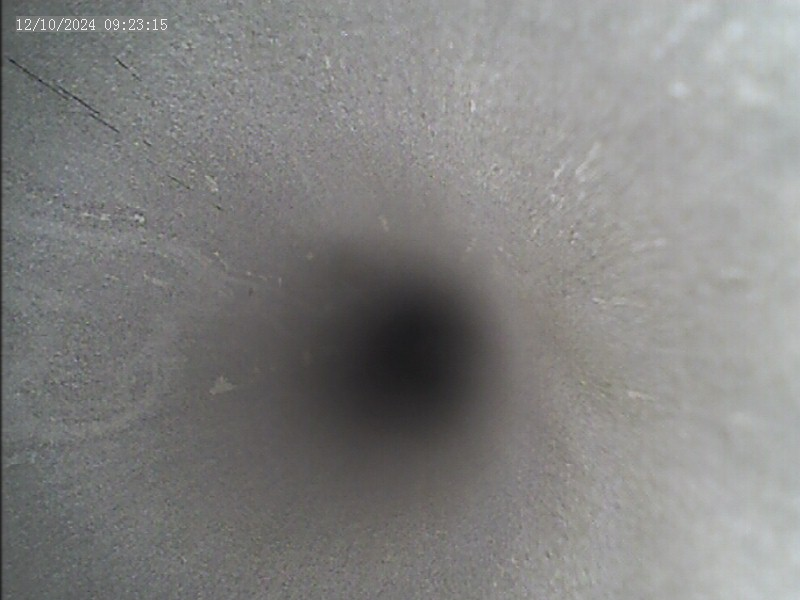defective_area: (6, 55, 227, 222)
